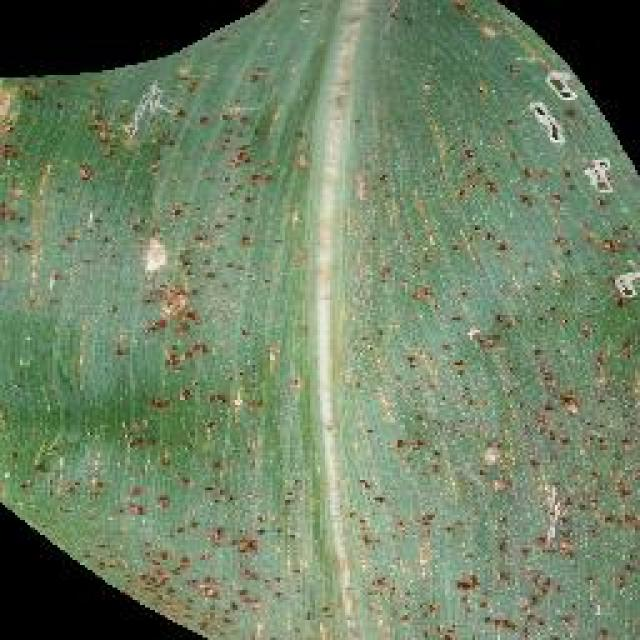Corn Common Rust: (9, 128, 598, 627)
